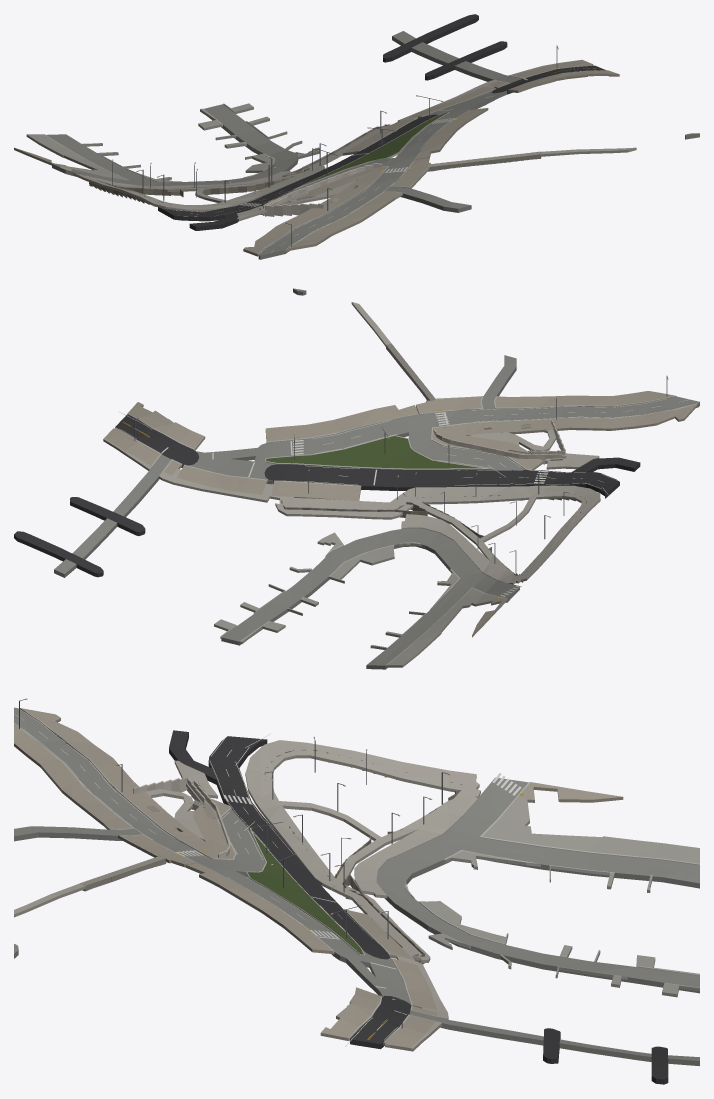
3 views of the same model, one above another, from view 1: azimuth 30°, elevation 25°; view 2: azimuth 150°, elevation 25°; view 3: azimuth 270°, elevation 25° (orthographic). The views are drawn at different scales.
Size of the model in its own units: 152 by 39.35 by 146.
